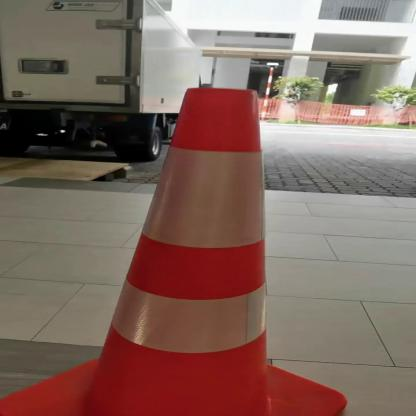cone: (0, 81, 357, 415)
